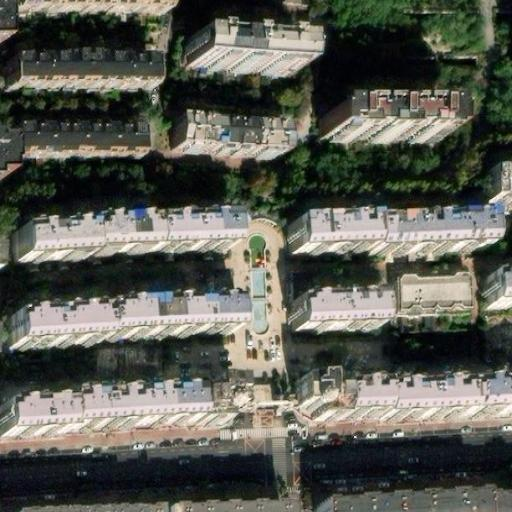building: (12, 219, 228, 267), (0, 386, 230, 431), (295, 379, 512, 426), (0, 303, 224, 346), (282, 216, 477, 255), (3, 488, 278, 512), (0, 55, 140, 90), (6, 119, 130, 152), (179, 34, 291, 69), (319, 114, 434, 147), (170, 113, 281, 147), (286, 297, 375, 331), (391, 282, 466, 321), (309, 499, 472, 512), (230, 390, 271, 428), (243, 269, 267, 333), (478, 274, 512, 310), (479, 168, 512, 200), (472, 496, 512, 512)
